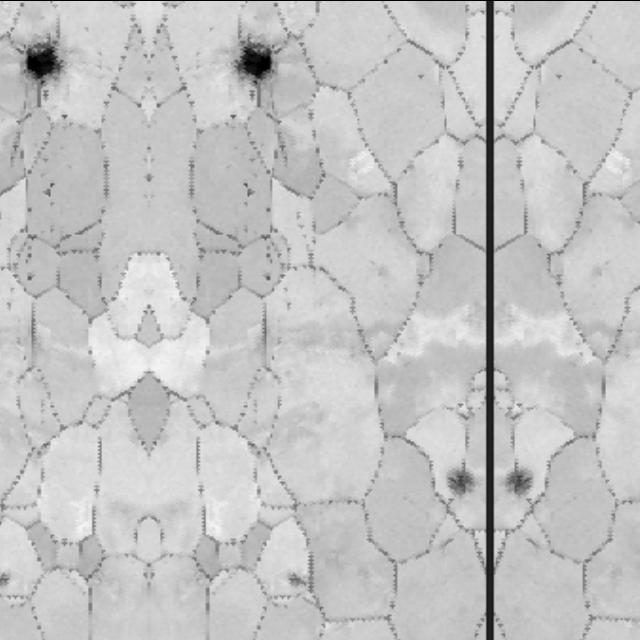good_void: (227, 35, 279, 86), (20, 35, 71, 86), (448, 467, 475, 500), (507, 467, 534, 500), (282, 566, 312, 595), (0, 566, 16, 591), (240, 178, 262, 196), (36, 178, 58, 196), (55, 105, 74, 121), (225, 105, 243, 121), (417, 71, 430, 82), (552, 71, 565, 82), (261, 272, 274, 282), (24, 272, 37, 282)
